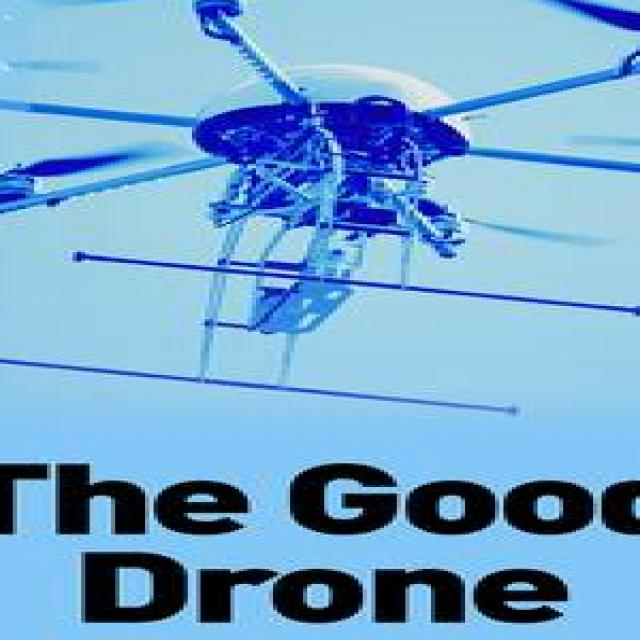drone: (0, 0, 640, 328)
